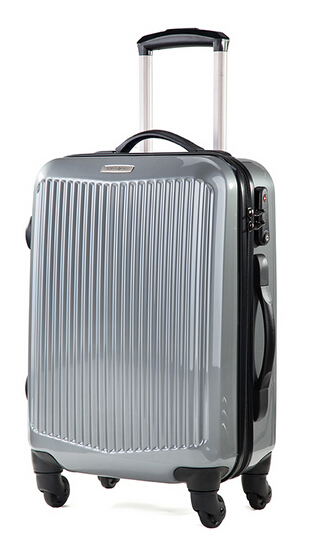luggage: (23, 26, 279, 531)
